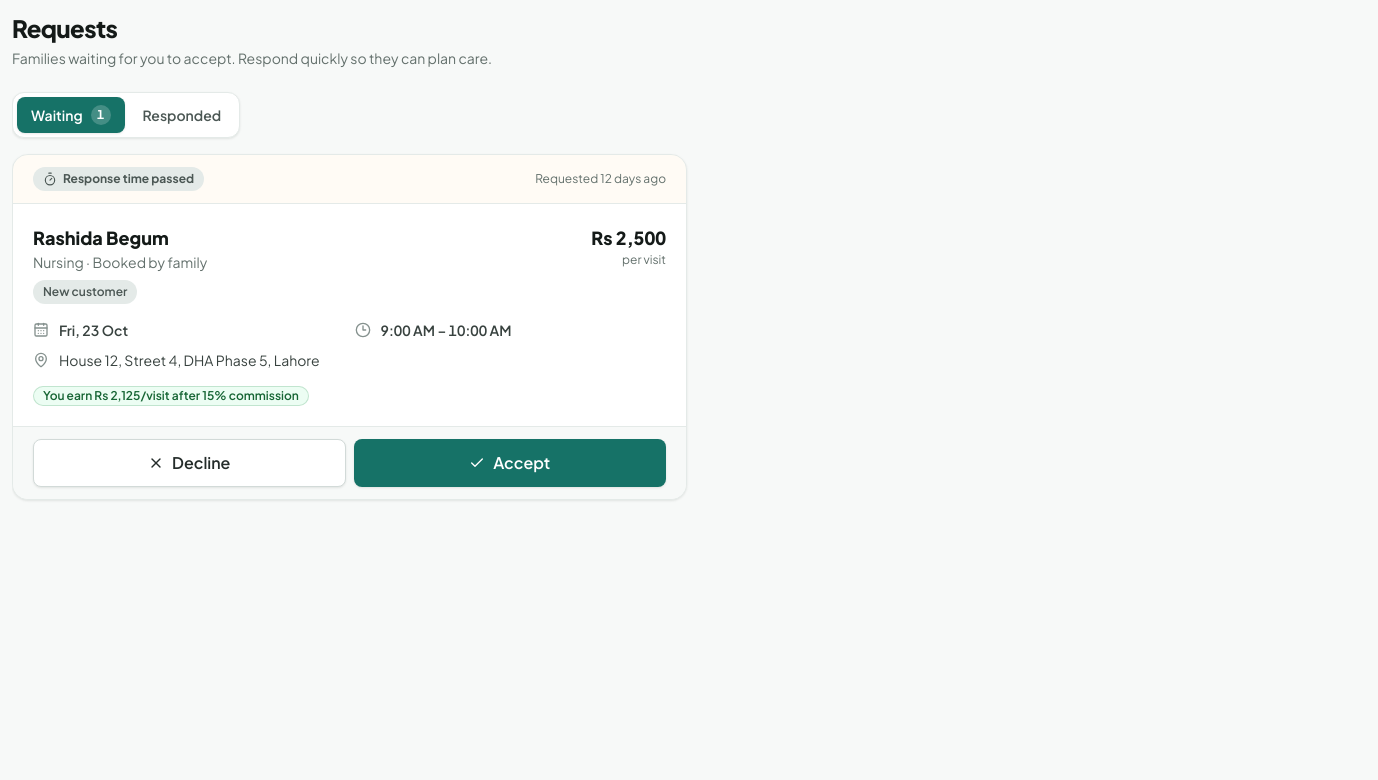
Test: requests page › Accept posts to /caregiver/bookings/:id/accept
Click the button "Accept" at (510, 463), box [354,439,666,487]
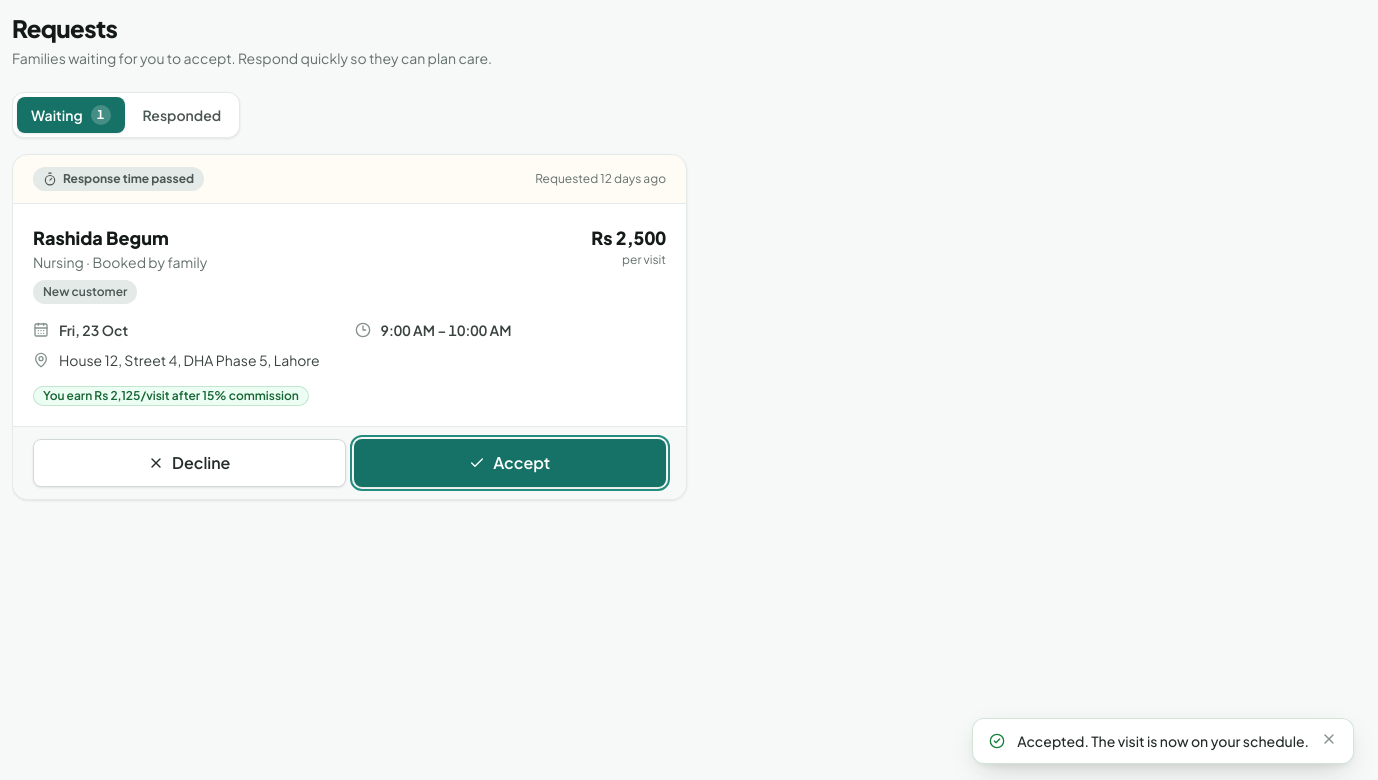
Result: the text "Accepted. The visit is now on your schedule." is shown at [1017,731,1309,751]
